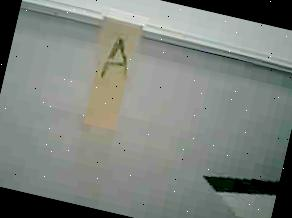Bottle A: (72, 0, 151, 143)
